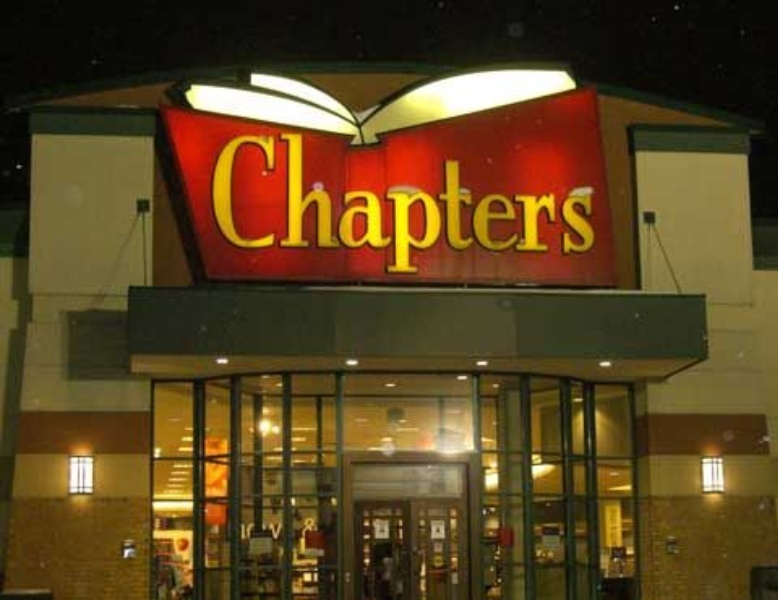text: (225, 129, 240, 275), (241, 129, 256, 275), (257, 129, 272, 275), (273, 129, 288, 275), (289, 129, 304, 275), (305, 129, 320, 275), (321, 129, 336, 275), (337, 129, 352, 275), (353, 129, 368, 275), (369, 129, 384, 275), (385, 129, 400, 275), (401, 129, 416, 275), (417, 129, 432, 275), (433, 129, 448, 275), (449, 129, 464, 275), (465, 129, 480, 275), (481, 129, 496, 275), (497, 129, 512, 275), (513, 129, 528, 275), (529, 129, 544, 275), (545, 129, 560, 275), (561, 129, 576, 275), (577, 129, 592, 275), (211, 129, 224, 275), (593, 129, 597, 275), (273, 521, 284, 542), (268, 521, 272, 542)
